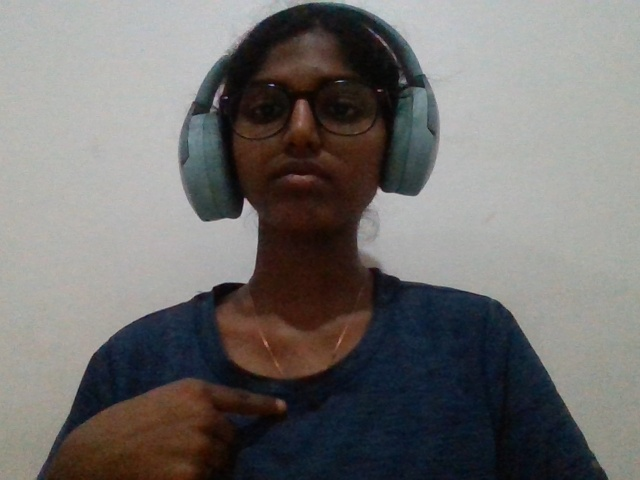Me: (42, 350, 325, 480)
